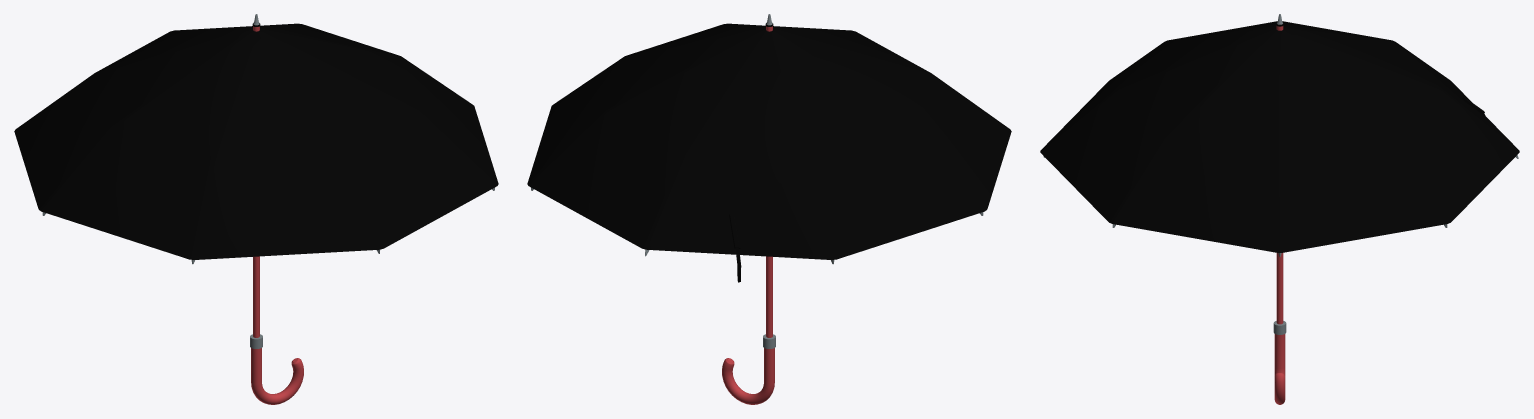
File: umbrella_open.glb
The picture shows the model from 3 angles, left to right: view 1: azimuth 30°, elevation 25°; view 2: azimuth 150°, elevation 25°; view 3: azimuth 270°, elevation 25°; orthographic projection. The views are drawn at different scales.
Parts seen in each view (by area): view 1: umbrella_open; view 2: umbrella_open; view 3: umbrella_open.
Boxes of the visible parts, left/top/right/bottom form: umbrella_open: left=14, top=14, right=498, bottom=404; umbrella_open: left=527, top=14, right=1011, bottom=404; umbrella_open: left=1040, top=14, right=1519, bottom=404.
Bounding box in the file's own units: 1.15 × 1 × 1.15.
